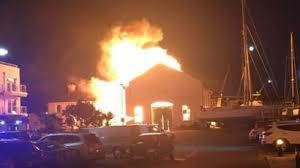fire: (84, 22, 181, 125)
